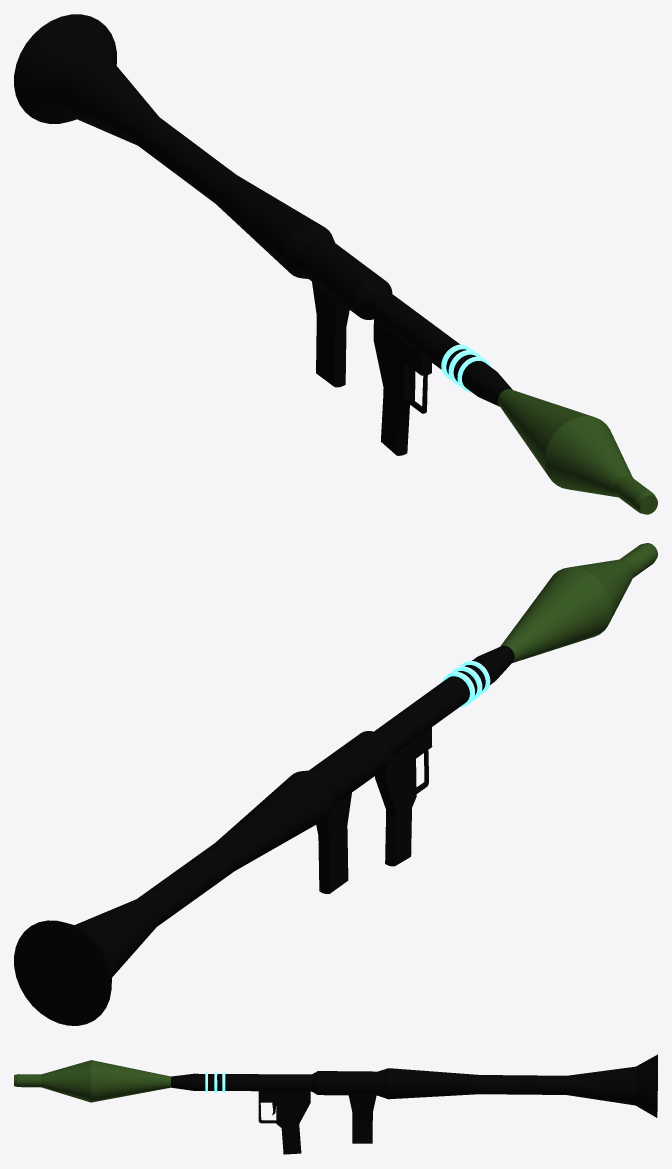
File: rpg.fbx
3 renders of one model, top to bottom at view 1: azimuth 30°, elevation 25°; view 2: azimuth 150°, elevation 25°; view 3: azimuth 270°, elevation 25°, orthographic. The views are drawn at different scales.
Visible parts, largest first — view 1: Cylinder; view 2: Cylinder; view 3: Cylinder.
Part boxes in pixels (box(x1,y1,x2,y2)): Cylinder: box(14, 14, 657, 514); Cylinder: box(14, 543, 657, 1025); Cylinder: box(14, 1054, 657, 1154).
Size of the model in its own units: 47.64 by 81.75 by 482.
